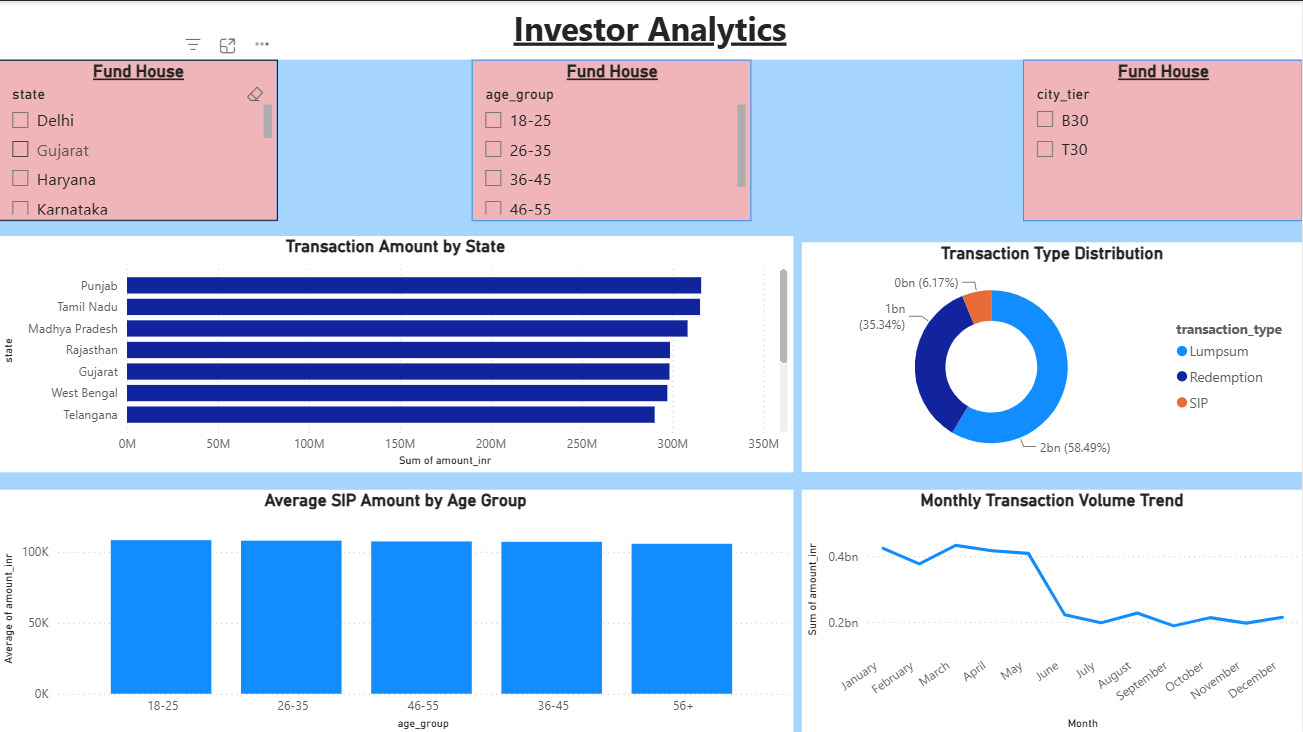

What the dashboard file says about the page in this screenshot:
{"tool":"powerbi","page":{"name":"Investor Analytics","canvas":[1280,720],"ordinal":2},"visuals":[{"type":"textbox","box":[0,0,1280,57.5],"z":0},{"type":"slicer","title":"Fund House","fields":{"Values":["08_investor_transactions.state"]},"box":[0,57.3,274.4,158.5],"z":1000},{"type":"slicer","title":"Fund House","fields":{"Values":["08_investor_transactions.age_group"]},"box":[464.6,57.3,274.4,158.5],"z":2000},{"type":"slicer","title":"Fund House","fields":{"Values":["08_investor_transactions.city_tier"]},"box":[1006.1,57.3,274.4,158.5],"z":3000},{"type":"clusteredBarChart","title":"Transaction Amount by State","fields":{"Category":["08_investor_transactions.state"],"Y":["Sum(08_investor_transactions.amount_inr)"]},"box":[0,230.5,780.5,231.7],"z":4000},{"type":"donutChart","title":"Transaction Type Distribution","fields":{"Category":["08_investor_transactions.transaction_type"],"Y":["Sum(08_investor_transactions.amount_inr)"]},"box":[789,236.6,491.5,225.6],"z":5000},{"type":"clusteredColumnChart","title":"Average SIP Amount by Age Group","fields":{"Category":["08_investor_transactions.age_group"],"Y":["Avg(08_investor_transactions.amount_inr)"]},"box":[0,479.3,780.5,240.2],"z":6000},{"type":"lineChart","title":"Monthly Transaction Volume Trend","fields":{"Category":["08_investor_transactions.transaction_date.Variation.Date Hierarchy.Month"],"Y":["Sum(08_investor_transactions.amount_inr)"]},"box":[789,479.3,491.5,240.2],"z":7000}]}

Visuals, with their boxes in screenshot pixels (x1, y1, x2, y2), scaled from the page's 1280x720 canvas onto the 1303x732 screenshot:
textbox: [0, 0, 1302, 58]
"Fund House" slicer: [0, 58, 279, 219]
"Fund House" slicer: [473, 58, 752, 219]
"Fund House" slicer: [1024, 58, 1302, 219]
"Transaction Amount by State" clusteredBarChart: [0, 234, 795, 470]
"Transaction Type Distribution" donutChart: [803, 241, 1302, 470]
"Average SIP Amount by Age Group" clusteredColumnChart: [0, 487, 795, 731]
"Monthly Transaction Volume Trend" lineChart: [803, 487, 1302, 731]
